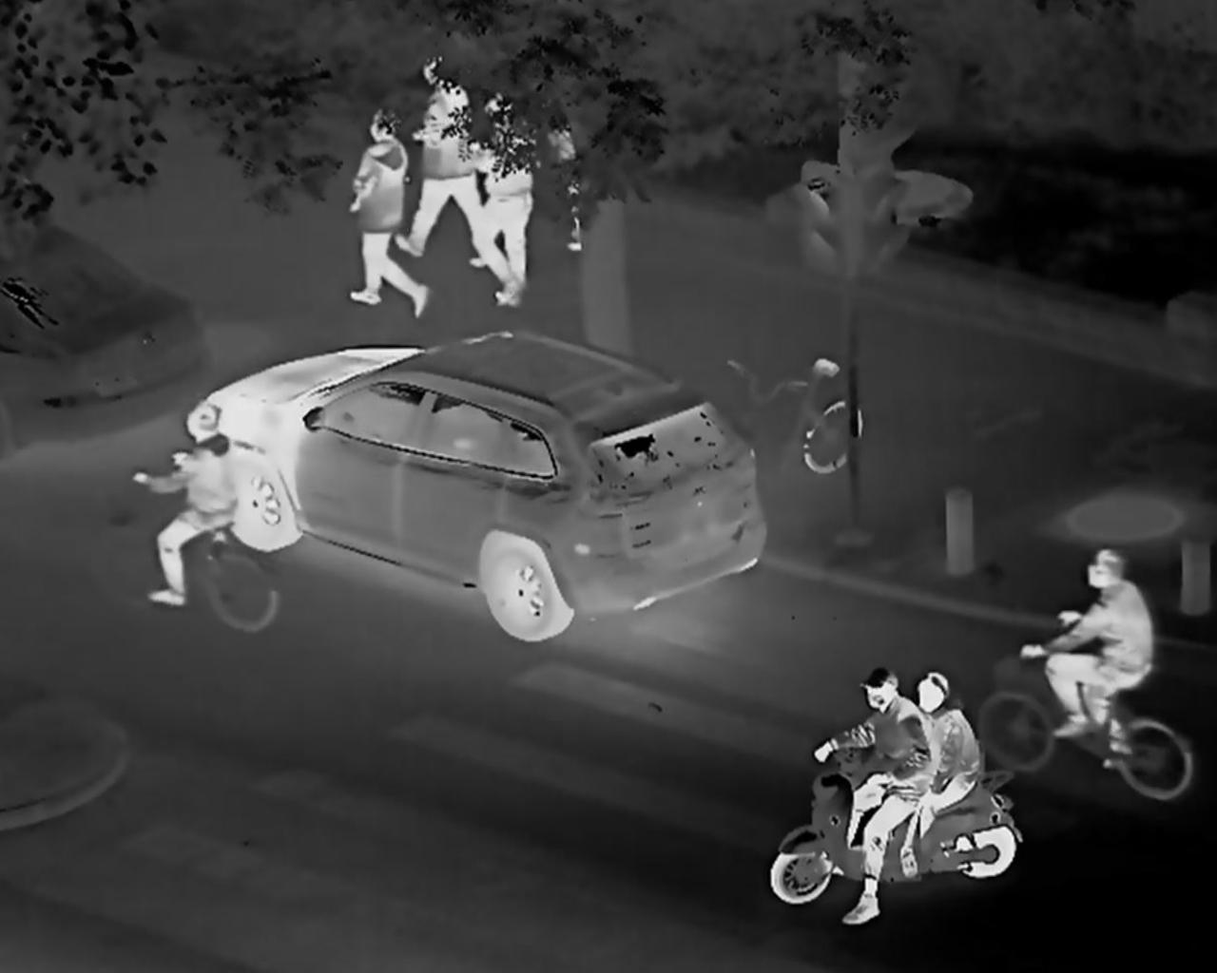person: (1024, 547, 1161, 782), (807, 666, 933, 921), (129, 404, 241, 620), (398, 56, 489, 262), (347, 110, 435, 319), (899, 669, 977, 883), (465, 91, 533, 310)
